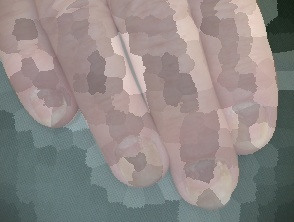Nail_psoriasis: (103, 126, 174, 198), (219, 92, 281, 159), (184, 157, 236, 209)
